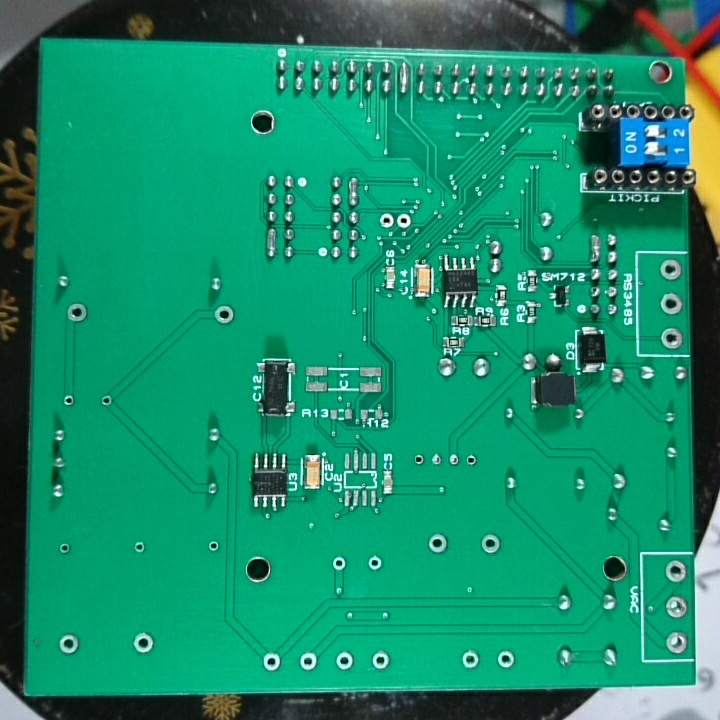F: (660, 595, 690, 621), (657, 256, 684, 283), (662, 558, 688, 586), (658, 291, 683, 320), (662, 629, 688, 655), (64, 300, 90, 326), (659, 325, 684, 352), (131, 631, 157, 656), (212, 304, 236, 329), (479, 532, 502, 558), (425, 531, 449, 555), (58, 632, 81, 655), (370, 649, 392, 672), (261, 651, 284, 673), (334, 649, 355, 673), (494, 648, 515, 669), (461, 649, 481, 671), (395, 208, 413, 232), (298, 651, 318, 672), (330, 554, 351, 574), (377, 210, 395, 232), (365, 552, 383, 572), (130, 538, 149, 556), (463, 452, 480, 470), (444, 451, 459, 469), (57, 541, 72, 557), (206, 537, 221, 553), (61, 392, 76, 408), (98, 394, 114, 408), (429, 452, 442, 468), (413, 451, 424, 466)
P: (344, 175, 363, 206), (395, 60, 410, 98), (587, 231, 603, 264), (265, 226, 277, 258)
